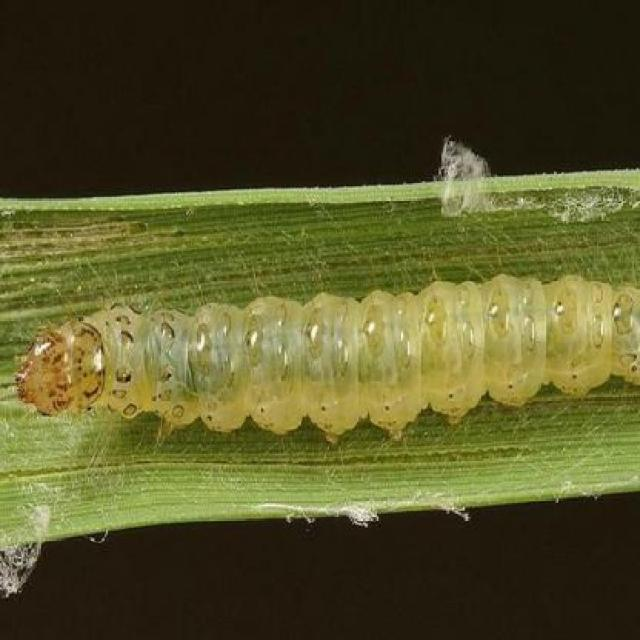leaf-folder: (18, 272, 640, 442)
